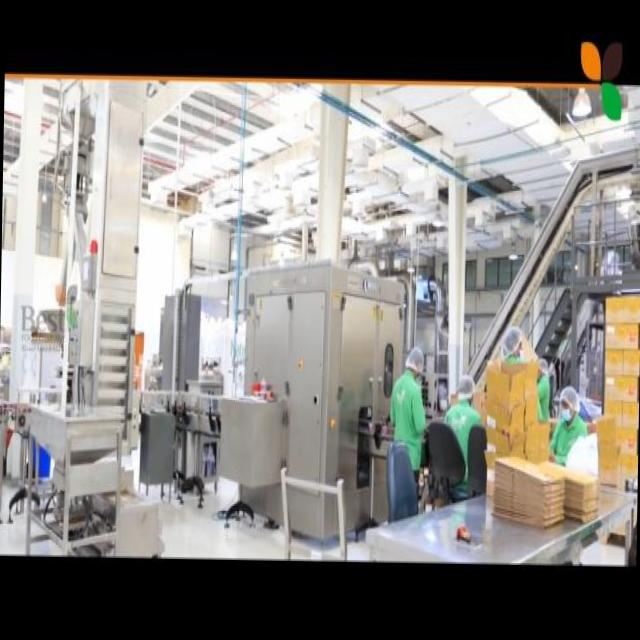hairnet: (558, 386, 580, 422), (502, 324, 522, 354), (408, 348, 427, 373), (458, 373, 475, 400), (534, 354, 552, 376)
